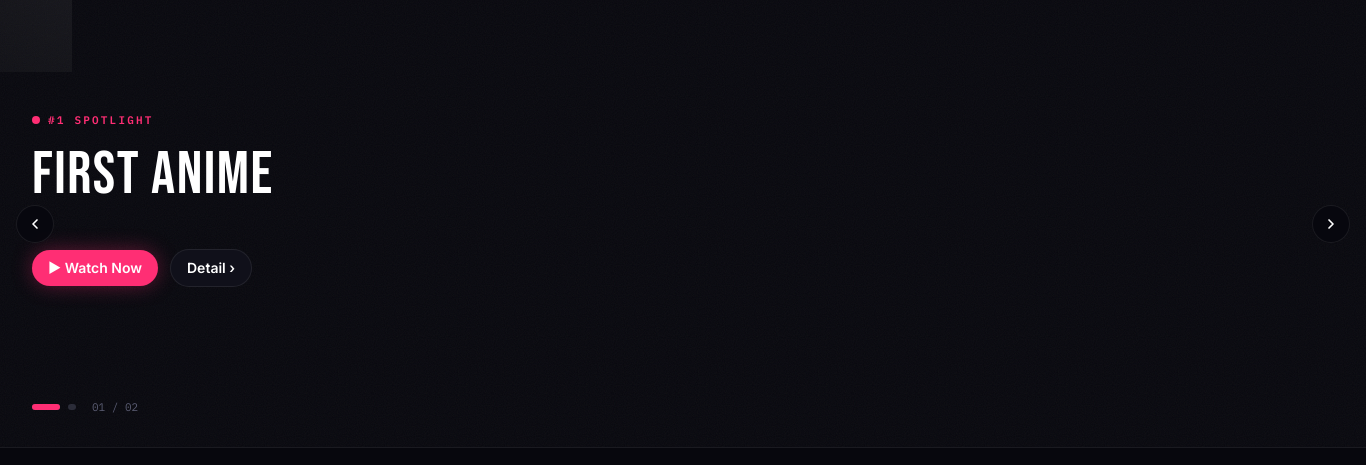
Test case: HeroSpotlight › switches slides when a dot indicator is clicked
Click the button named "Go to spotlight 2" at (72, 407), box [68,404,76,410]
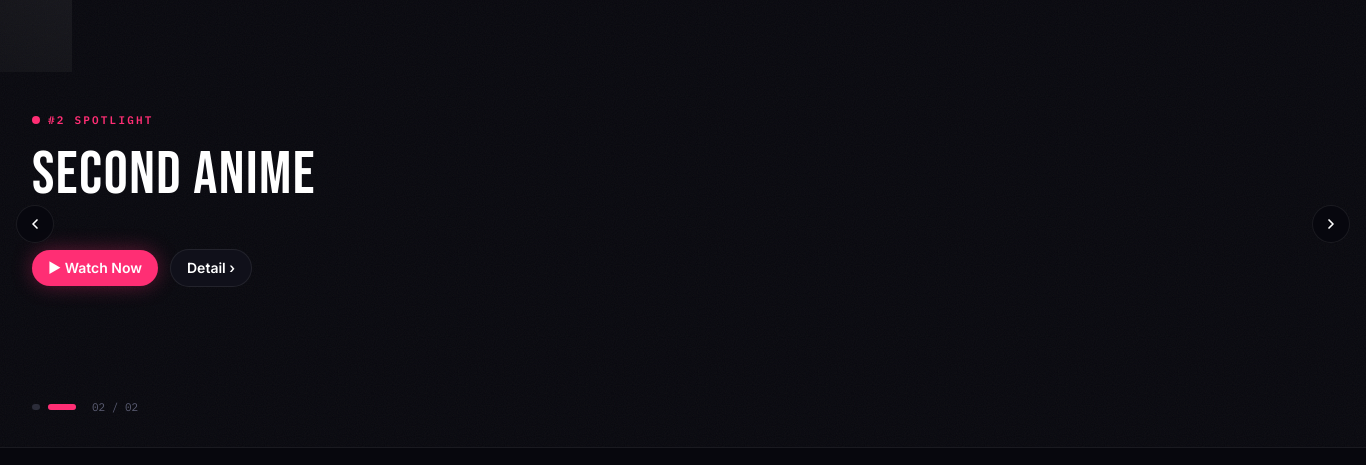
Check: the heading "Second Anime" is shown, box [32,138,316,210]
Check: the heading "First Anime" is gone
